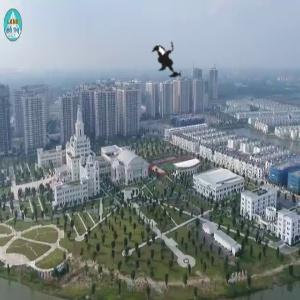drone: (140, 30, 202, 92)
